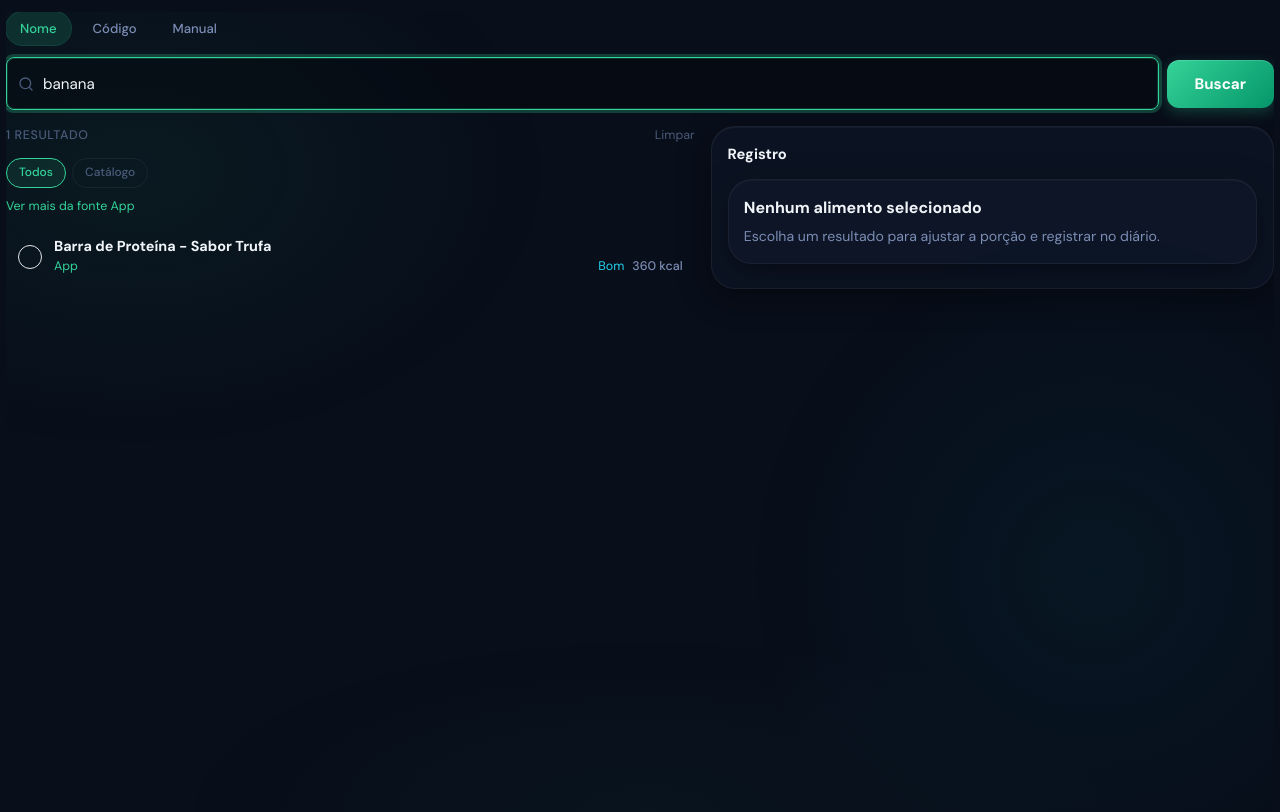
it: FoodSearchPanel › keeps desktop result selection opening the composer directly
What coordinates should you click on to do the following:
click the button "Barra de Proteína - Sabor Trufa App Bom 360 kcal"
I would click on:
 (163, 246)
Its box is x1=6 y1=225 x2=695 y2=289.
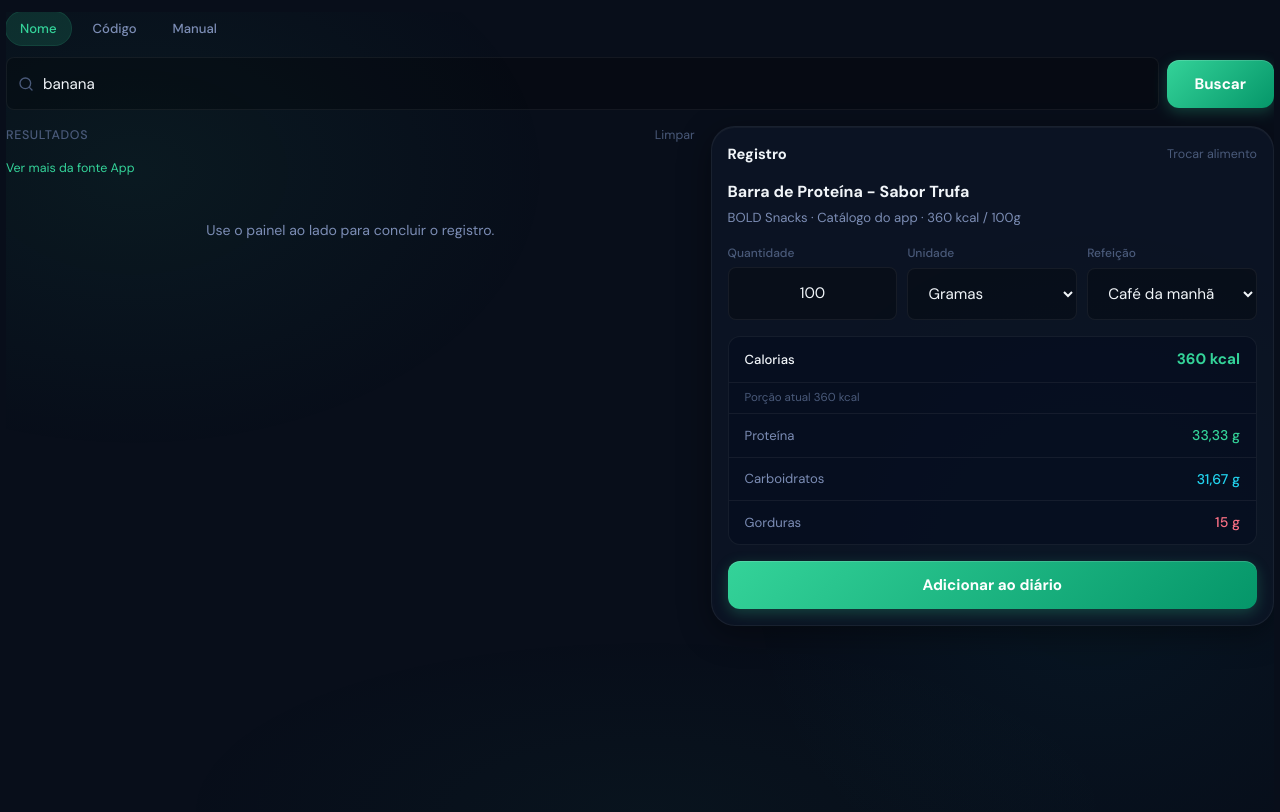
Expected: the text "Use o painel ao lado para concluir o registro." is shown, x1=206 y1=221 x2=494 y2=239
Expected: the button "Adicionar ao diário" is shown, x1=728 y1=561 x2=1257 y2=609
